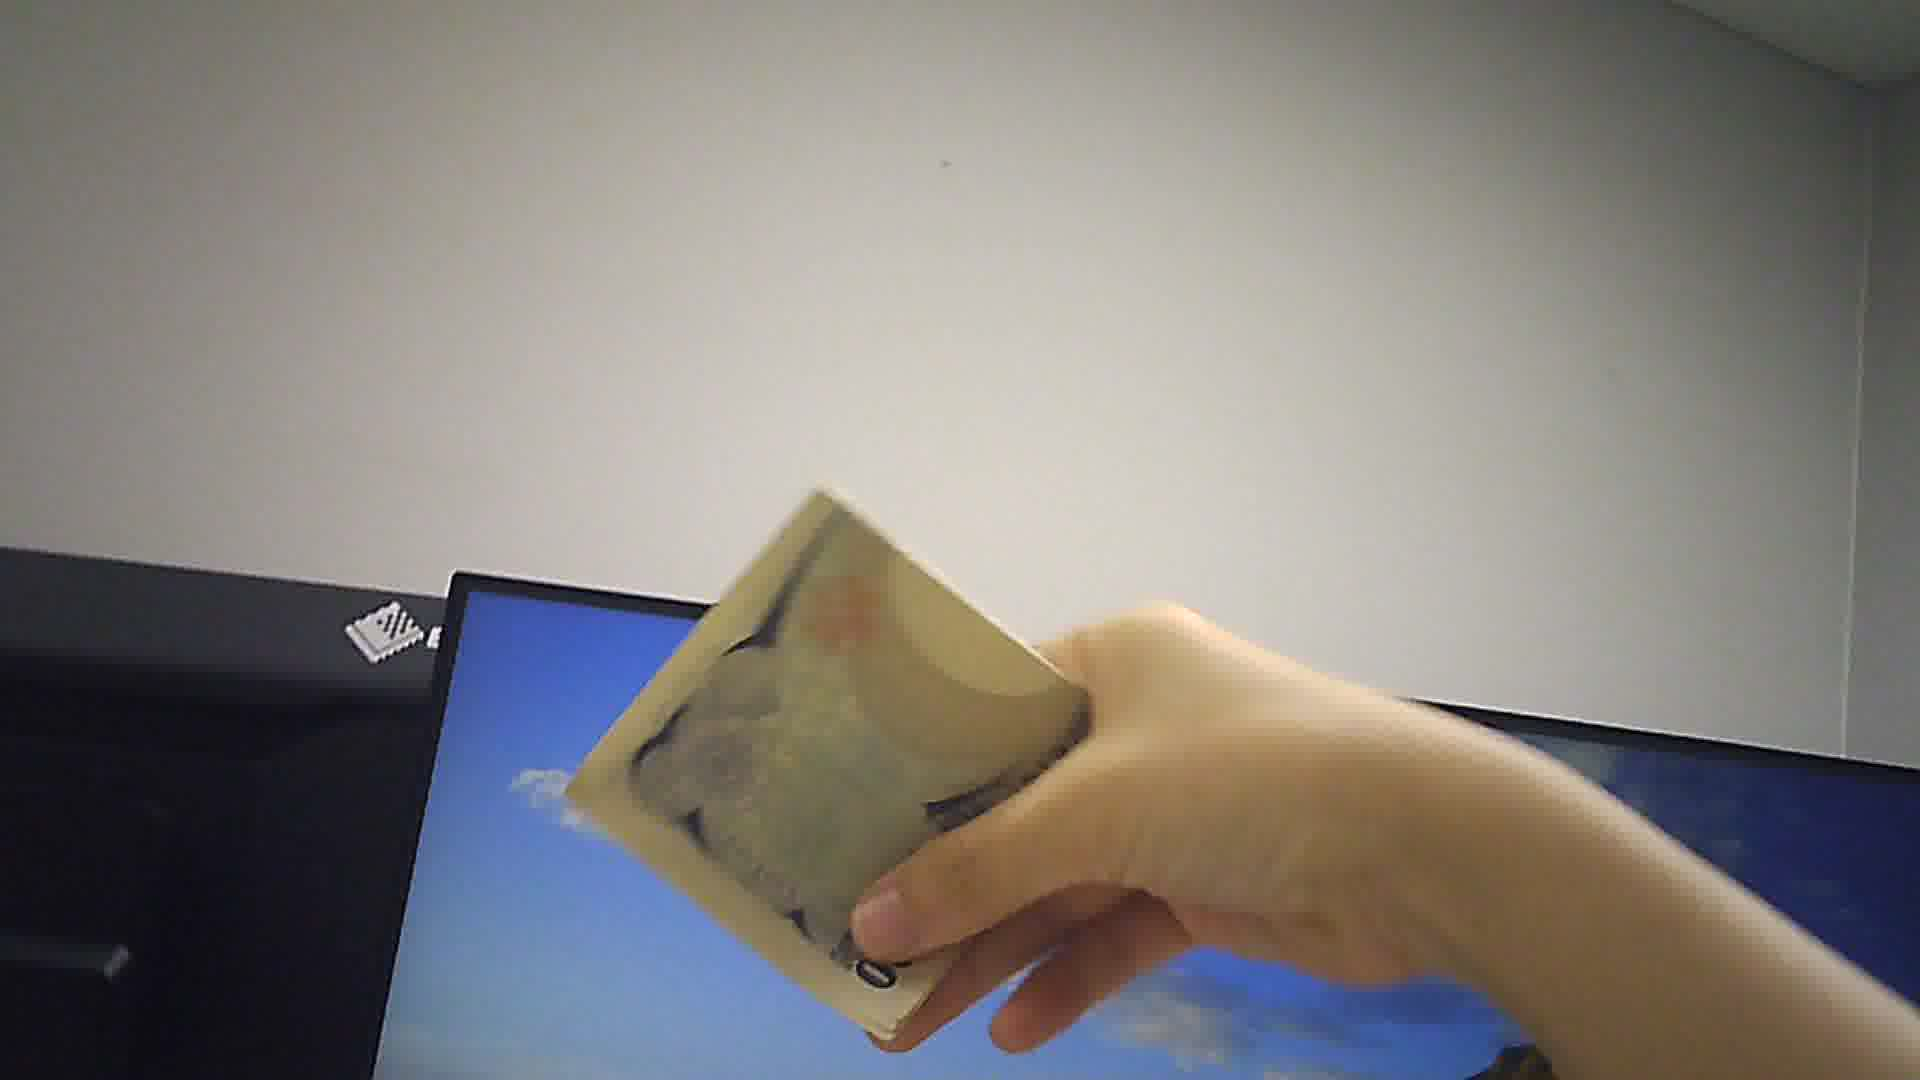1,000 Yen: (553, 468, 1077, 1036)
